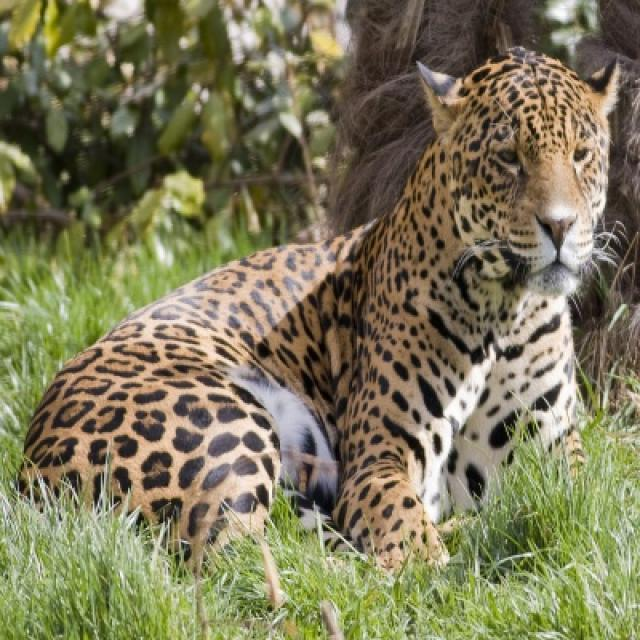Jaguar: (22, 46, 634, 606)
